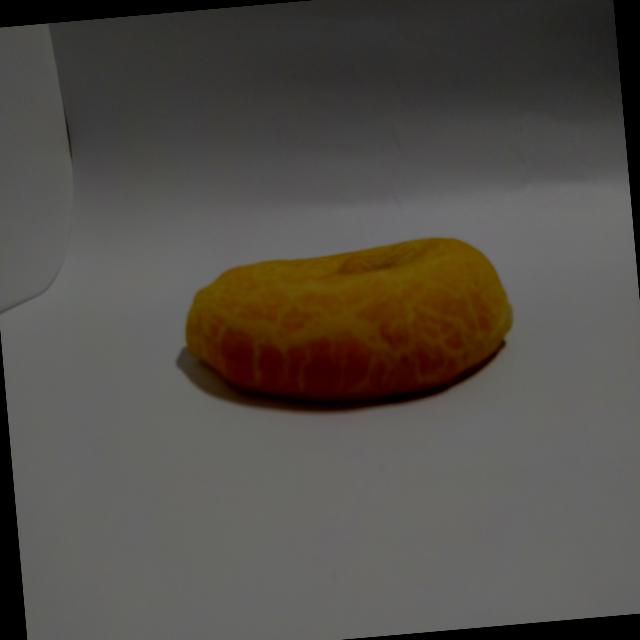Chipa: (170, 220, 530, 434)
